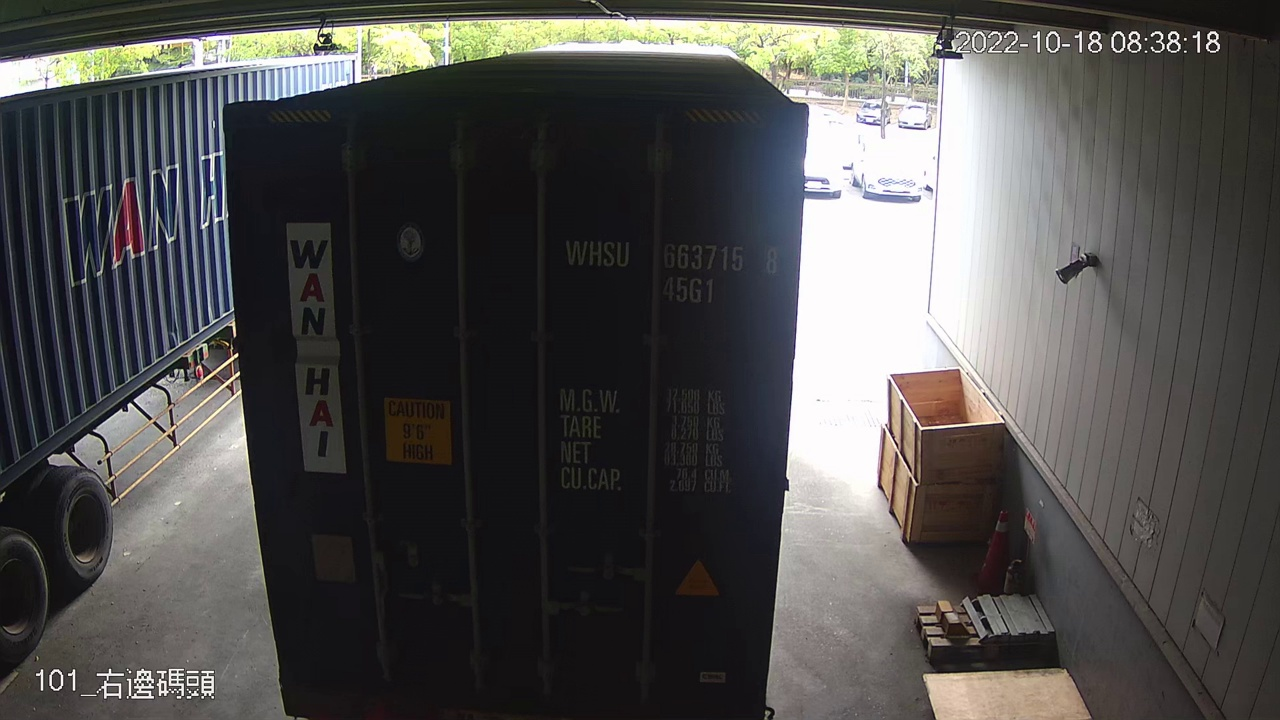container: (556, 230, 786, 312)
